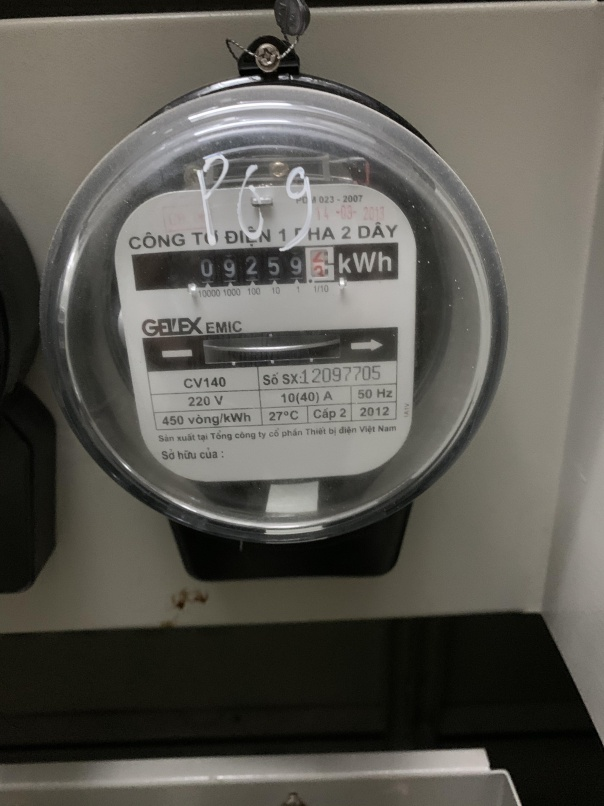counter: (131, 247, 402, 286)
electricity_meter: (34, 86, 512, 545)
